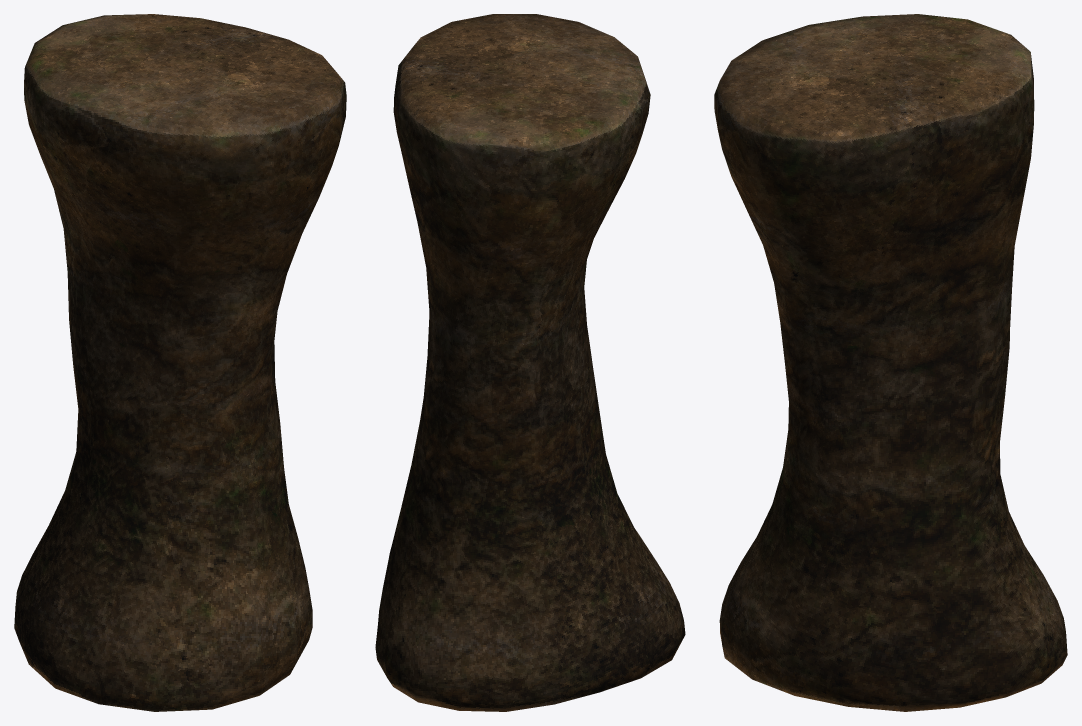
Rendered from SM_TI_Column_8m_1.gltf.
3 renders of one model, left to right at view 1: azimuth 30°, elevation 25°; view 2: azimuth 150°, elevation 25°; view 3: azimuth 270°, elevation 25°, orthographic. The views are drawn at different scales.
Visible parts, largest first — view 1: SM_TI_Column_8m_1; view 2: SM_TI_Column_8m_1; view 3: SM_TI_Column_8m_1.
Part boxes in pixels (<box>): SM_TI_Column_8m_1: <box>14,14,346,711</box>; SM_TI_Column_8m_1: <box>375,14,685,711</box>; SM_TI_Column_8m_1: <box>714,14,1067,711</box>.
Size of the model in its own units: 3.72 by 7.62 by 4.09.
1 material, 1 textured.
